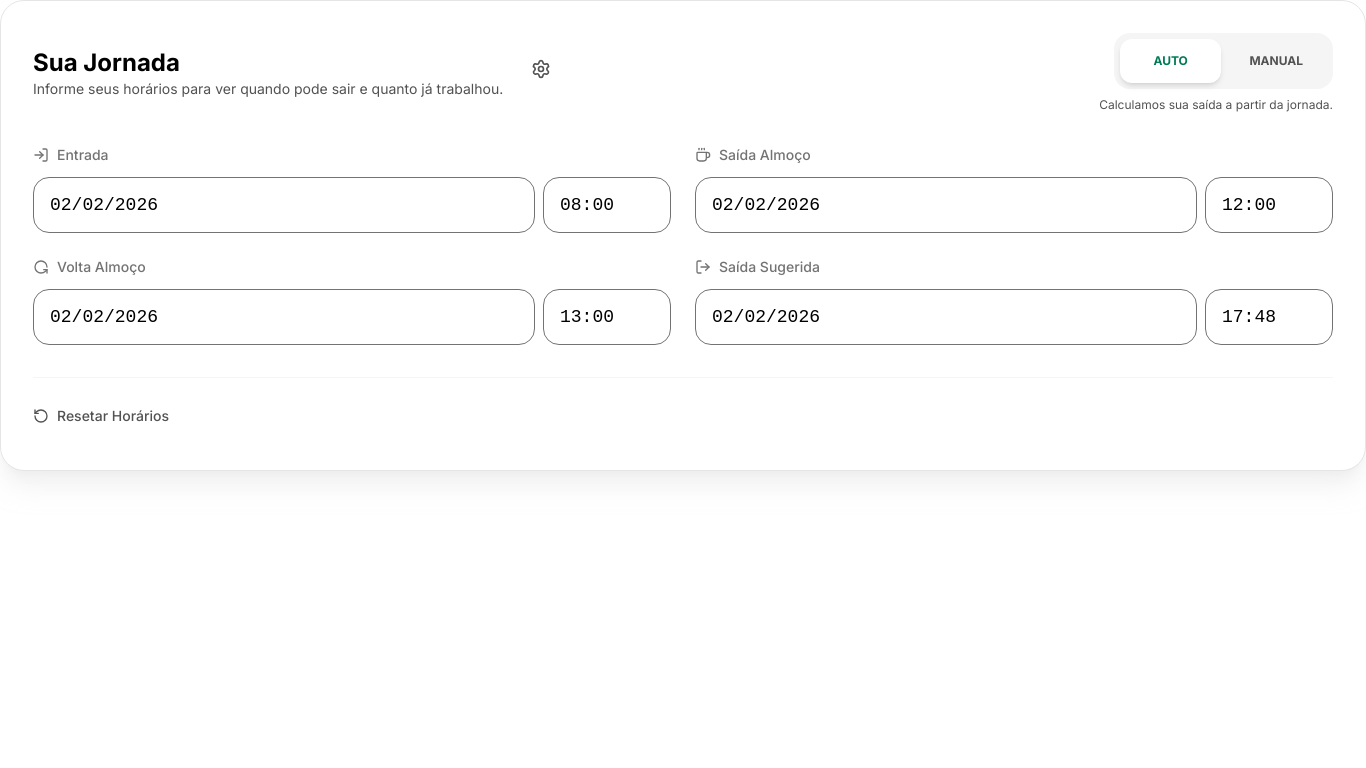
JourneyForm › restores the daily journey when an incomplete duration is left behind
Click the button named "Configurações da Jornada": [541, 69] box [519,47,563,91]
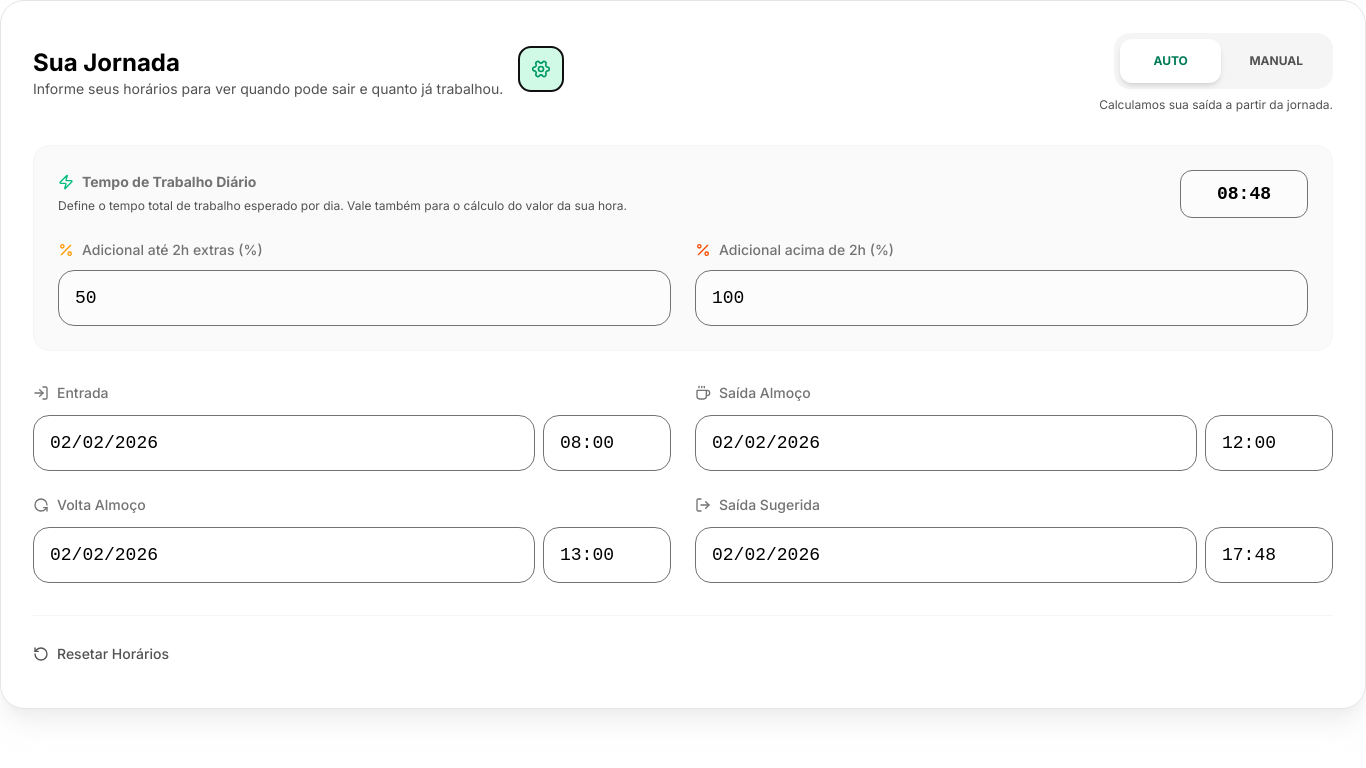
In the field labelled "Tempo de Trabalho Diário": [1244, 194] box [1180,170,1308,218], type "9"
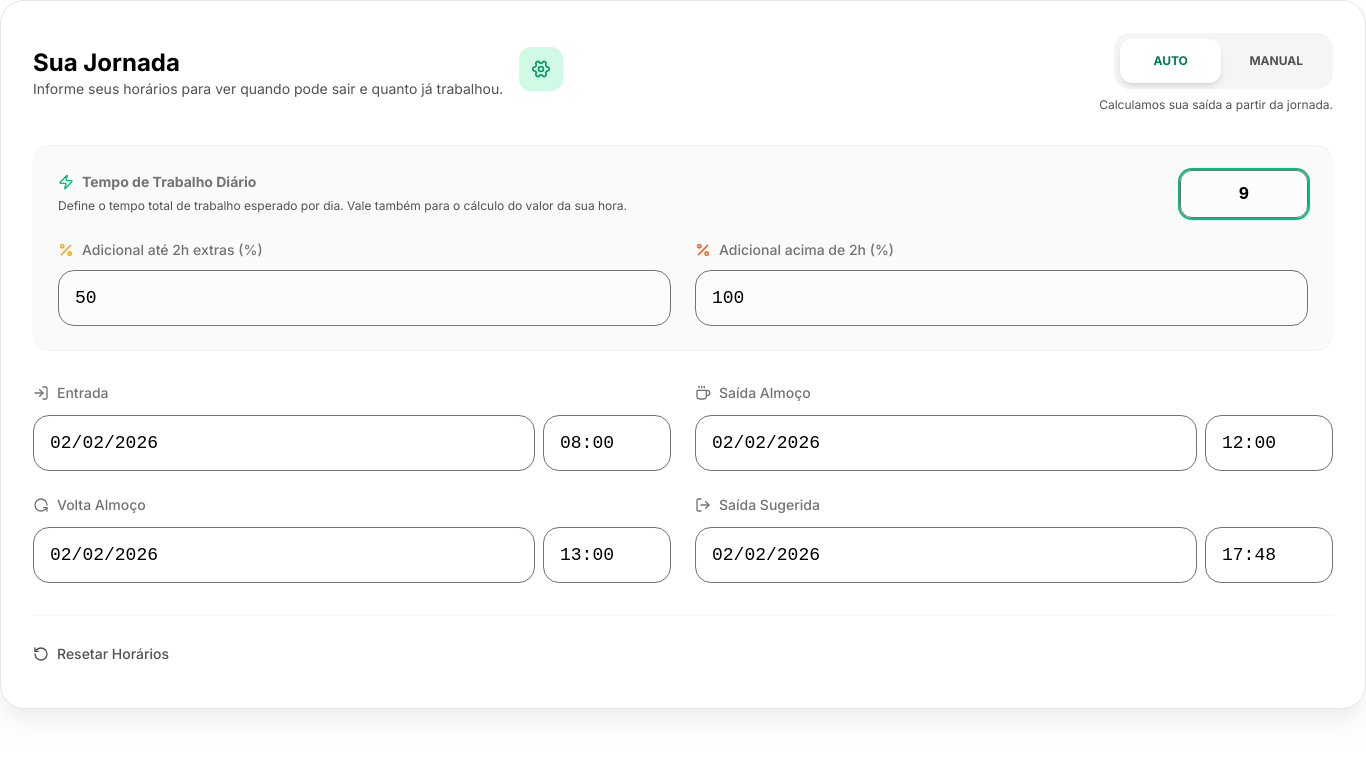
Press Tab
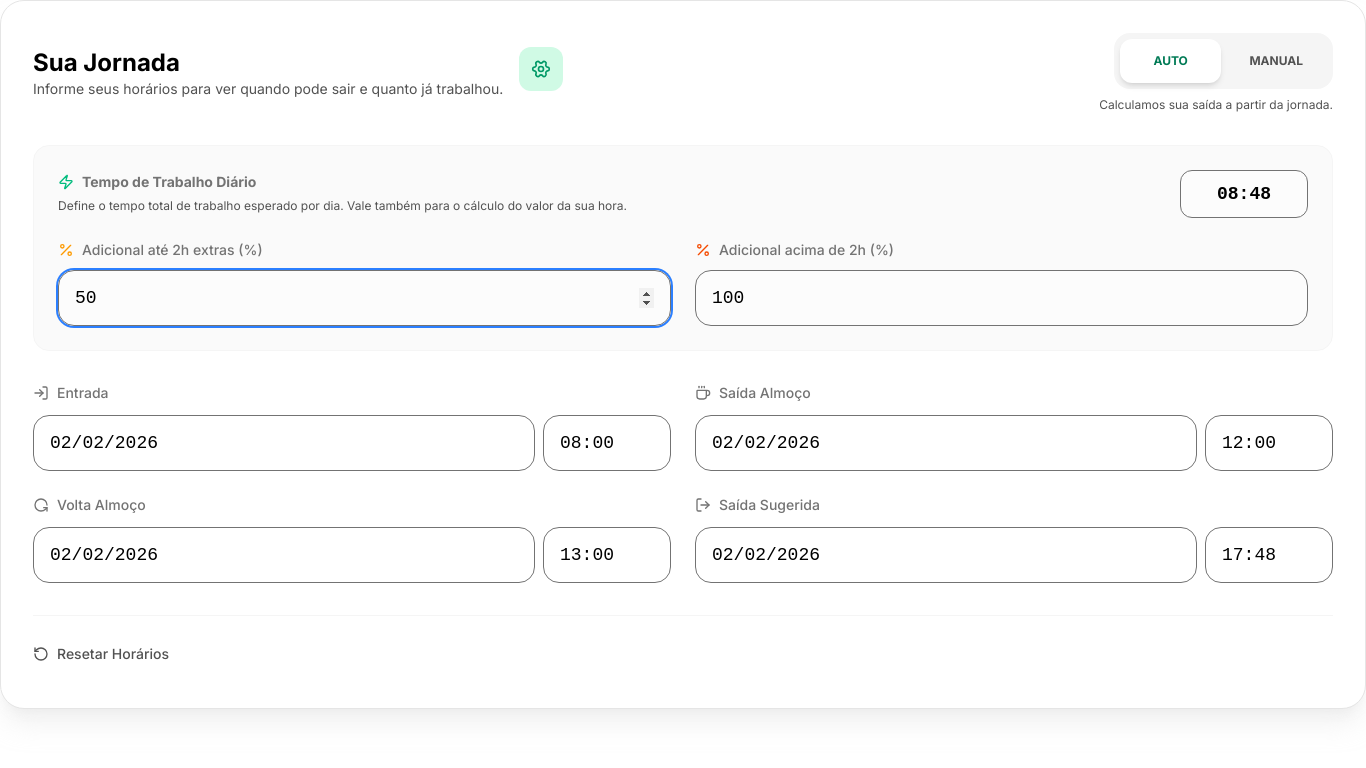
Check: the field labelled "Tempo de Trabalho Diário" holds "08:48", box [1180,170,1308,218]
